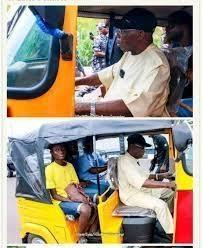keke: (10, 116, 188, 246), (2, 4, 194, 116)
